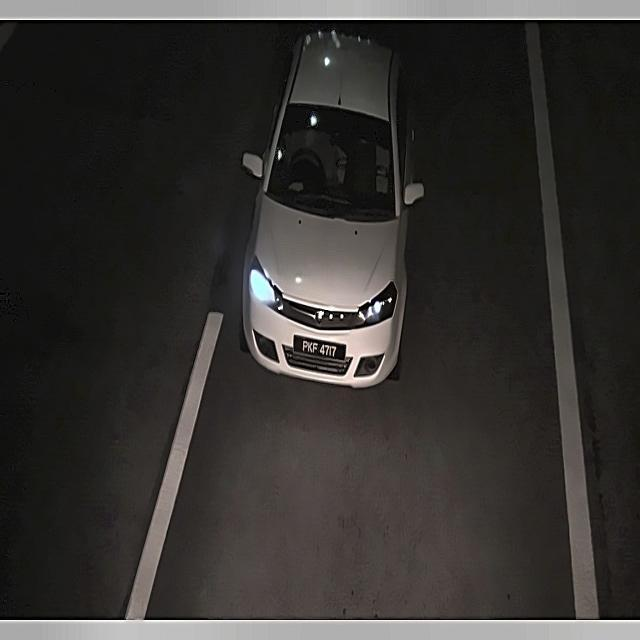car: (293, 326, 350, 373)
